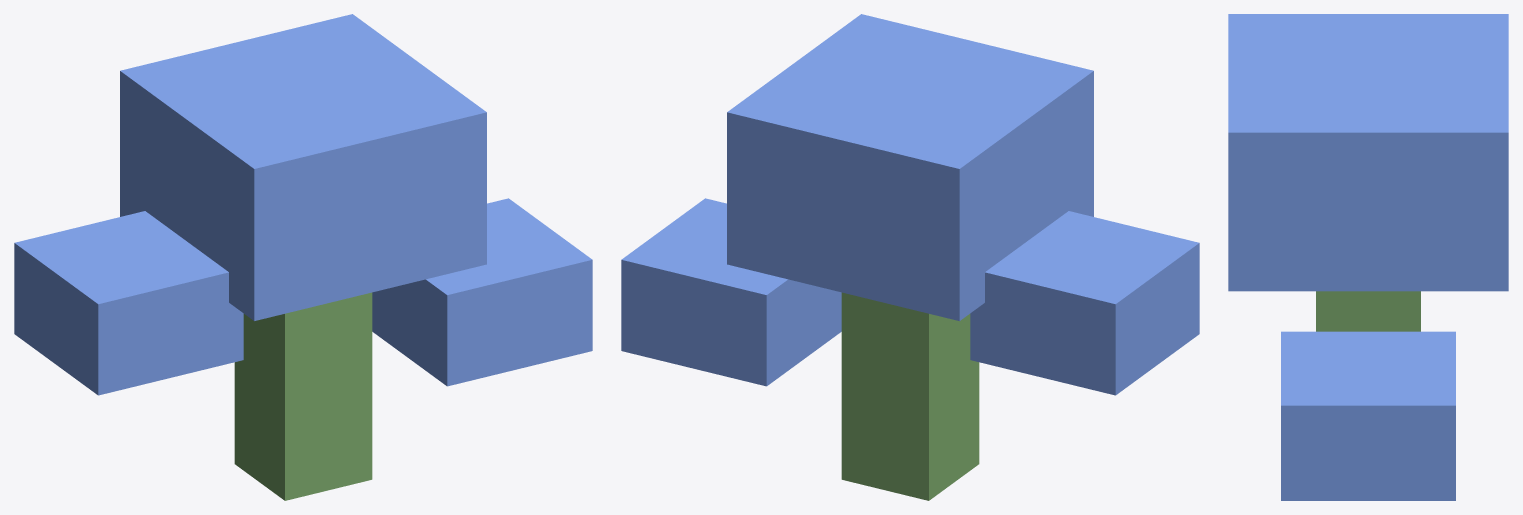
Rendered from Prop_DS_Herb_BufferBloom_S1_V1.glb.
3 renders of one model, left to right at view 1: azimuth 30°, elevation 25°; view 2: azimuth 150°, elevation 25°; view 3: azimuth 270°, elevation 25°, orthographic. The views are drawn at different scales.
Parts seen in each view (by area): view 1: Cube.003, Cube.002, Cube.001, Cube; view 2: Cube.003, Cube.002, Cube.001, Cube; view 3: Cube.003, Cube.001, Cube.
Part boxes in pixels (<box>): Cube.003: <box>120,14,486,320</box>; Cube.002: <box>14,211,243,395</box>; Cube.001: <box>372,198,592,386</box>; Cube: <box>234,292,372,500</box>; Cube.003: <box>727,14,1093,320</box>; Cube.002: <box>970,211,1199,395</box>; Cube.001: <box>621,198,841,386</box>; Cube: <box>841,292,979,500</box>; Cube.003: <box>1228,14,1508,291</box>; Cube.001: <box>1281,331,1455,500</box>; Cube: <box>1316,291,1420,331</box>.
Bounding box in the file's own units: 0.34 × 0.25 × 0.16.
